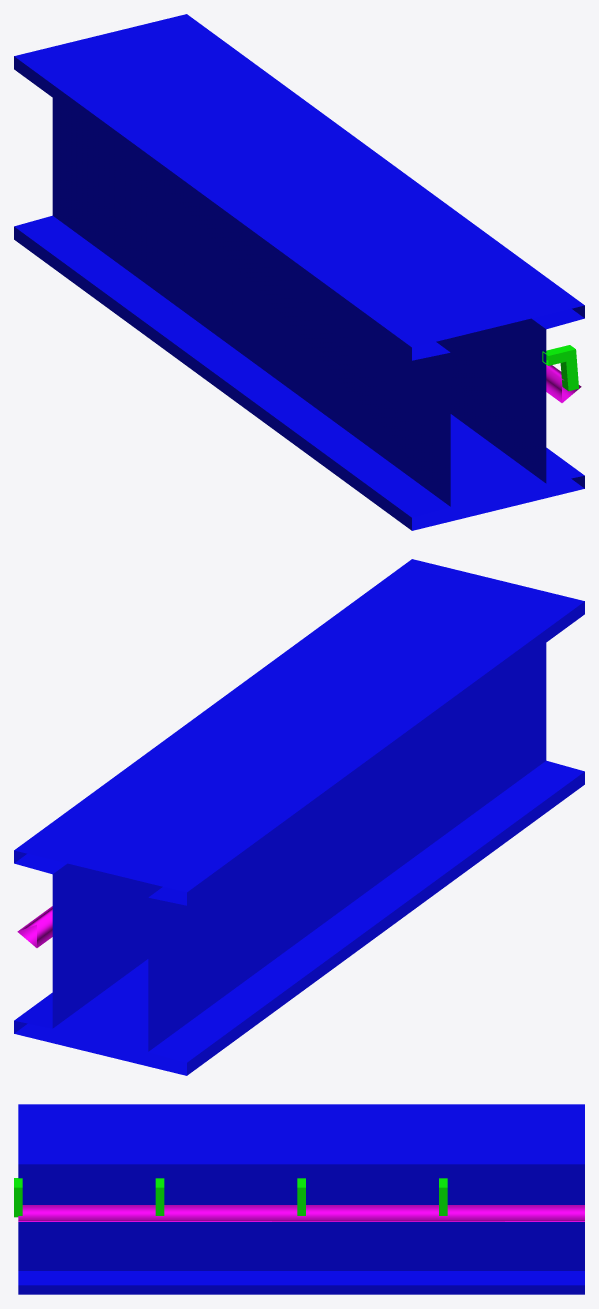
File: track_monorail_MOCKUP.fbx
3 views of the same model, one above another, from view 1: azimuth 30°, elevation 25°; view 2: azimuth 150°, elevation 25°; view 3: azimuth 270°, elevation 25° (orthographic). The views are drawn at different scales.
Parts seen in each view (by area): view 1: track_monorail_MOCKUP; view 2: track_monorail_MOCKUP; view 3: track_monorail_MOCKUP.
Boxes of the visible parts, left/top/right/bottom form: track_monorail_MOCKUP: left=14, top=14, right=584, bottom=530; track_monorail_MOCKUP: left=14, top=559, right=584, bottom=1075; track_monorail_MOCKUP: left=14, top=1104, right=584, bottom=1294.
Bounding box in the file's own units: 0.2507 × 0.2541 × 1.01.
